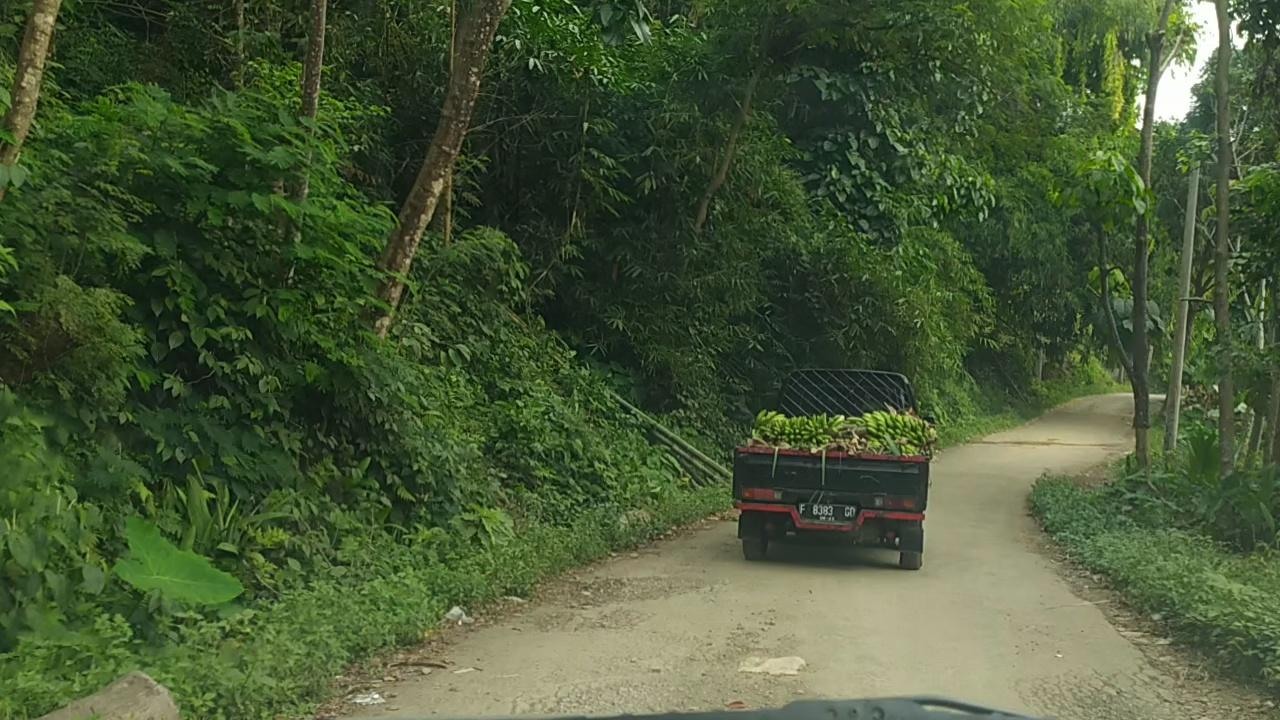pothole: (563, 577, 706, 609)
